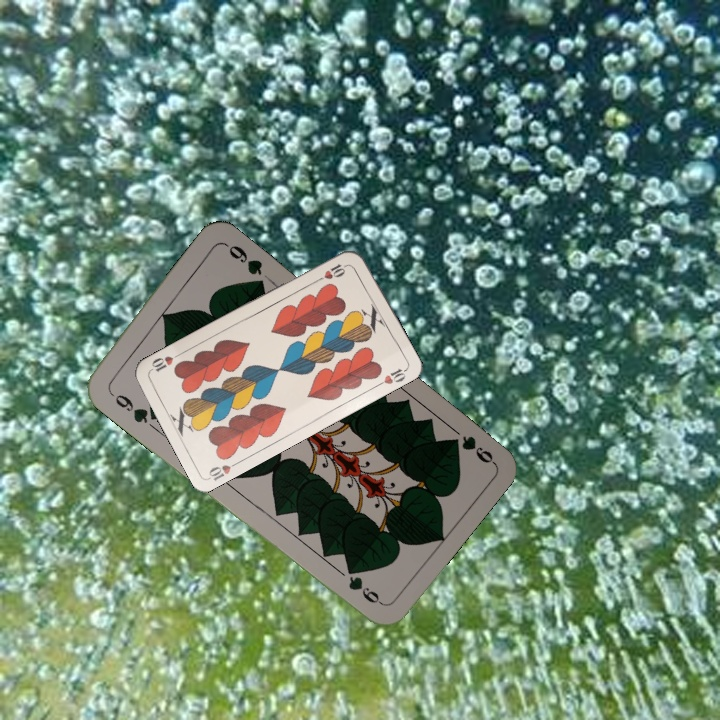G9: (111, 390, 159, 426), (457, 431, 496, 466)
H10: (204, 457, 243, 483), (313, 260, 351, 284)
